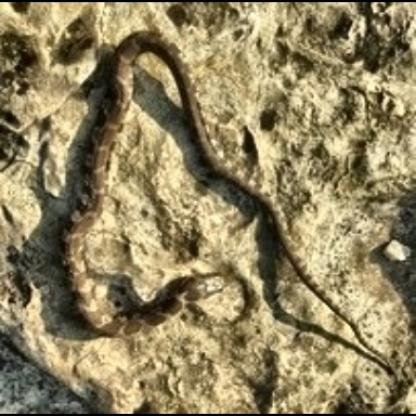Snake: (57, 26, 396, 342)
